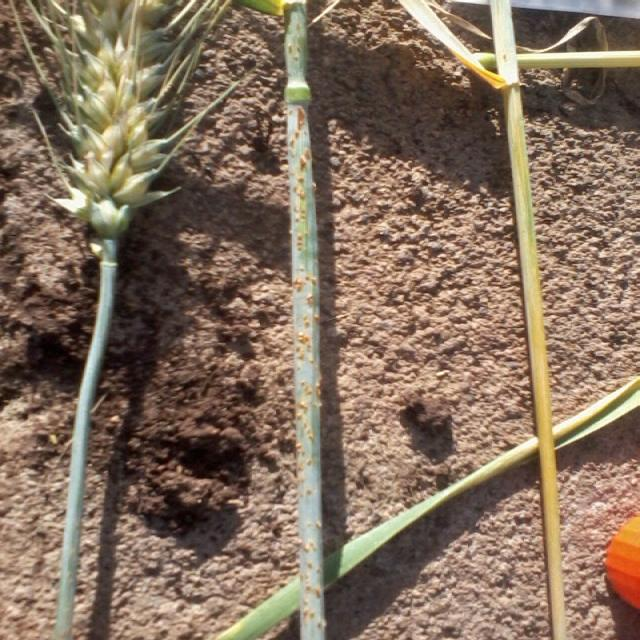wheat-stemrust: (284, 0, 331, 640)
